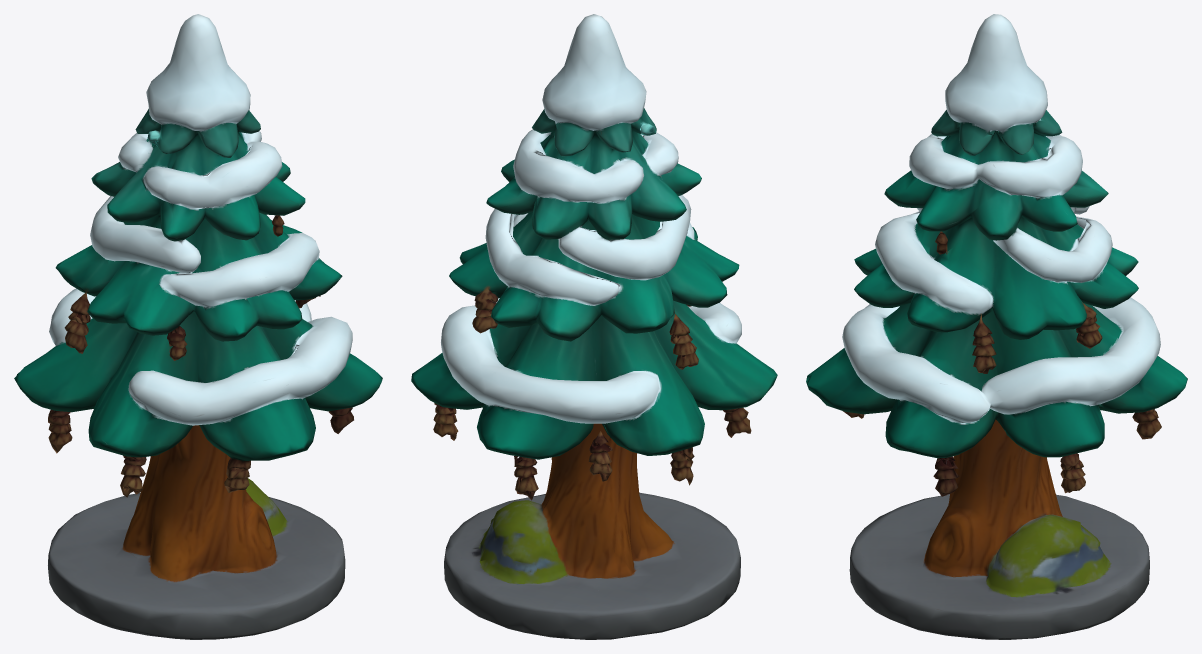
File: env_alpine_pine.glb
3 views of the same model, side by side, from view 1: azimuth 30°, elevation 25°; view 2: azimuth 150°, elevation 25°; view 3: azimuth 270°, elevation 25° (orthographic).
Visible parts, largest first — view 1: world; view 2: world; view 3: world.
Boxes of the visible parts, x1,y1,x2,y2 form: world: (14,14,382,639); world: (411,14,777,639); world: (806,14,1187,639).
Bounding box in the file's own units: 0.522 × 0.9991 × 0.6128.
1 material, 1 textured.
